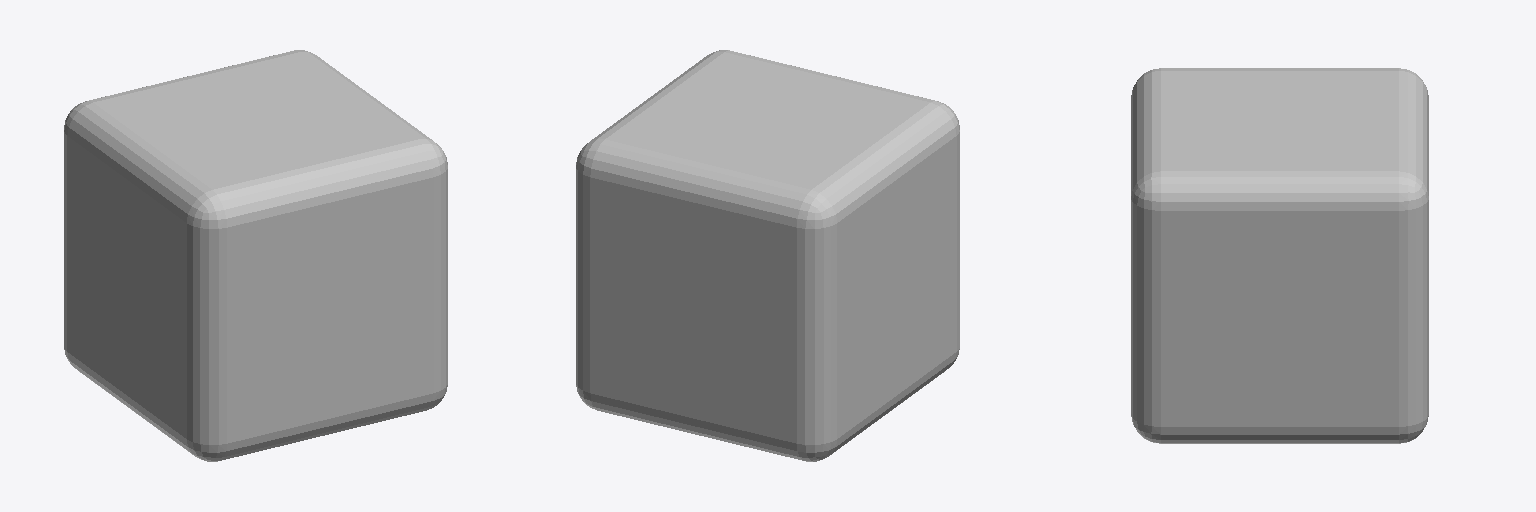
Rendered from dicebk.obj.
3 views of the same model, side by side, from view 1: azimuth 30°, elevation 25°; view 2: azimuth 150°, elevation 25°; view 3: azimuth 270°, elevation 25° (orthographic).
Parts seen in each view (by area): view 1: Cube; view 2: Cube; view 3: Cube.
Part boxes in pixels (x1,y1,x2,y2): Cube: (64, 50, 447, 461); Cube: (576, 50, 959, 461); Cube: (1131, 68, 1428, 443).
Bounding box in the file's own units: 2 × 2 × 2.